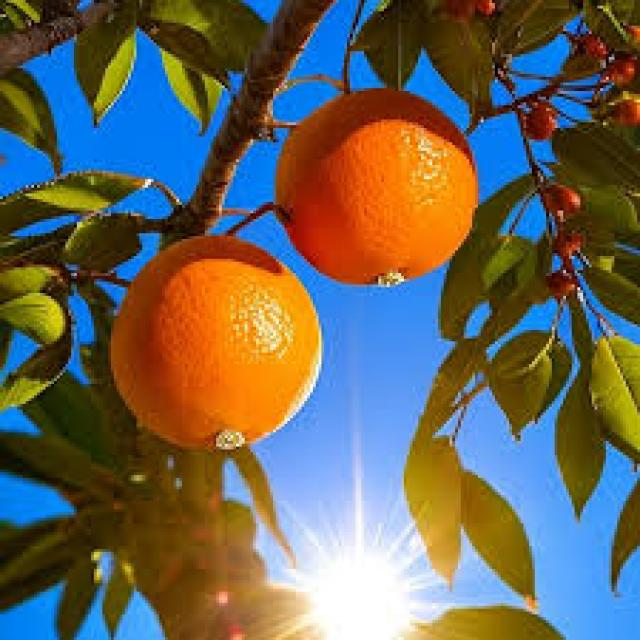orange: (103, 233, 327, 455), (271, 85, 486, 284)
